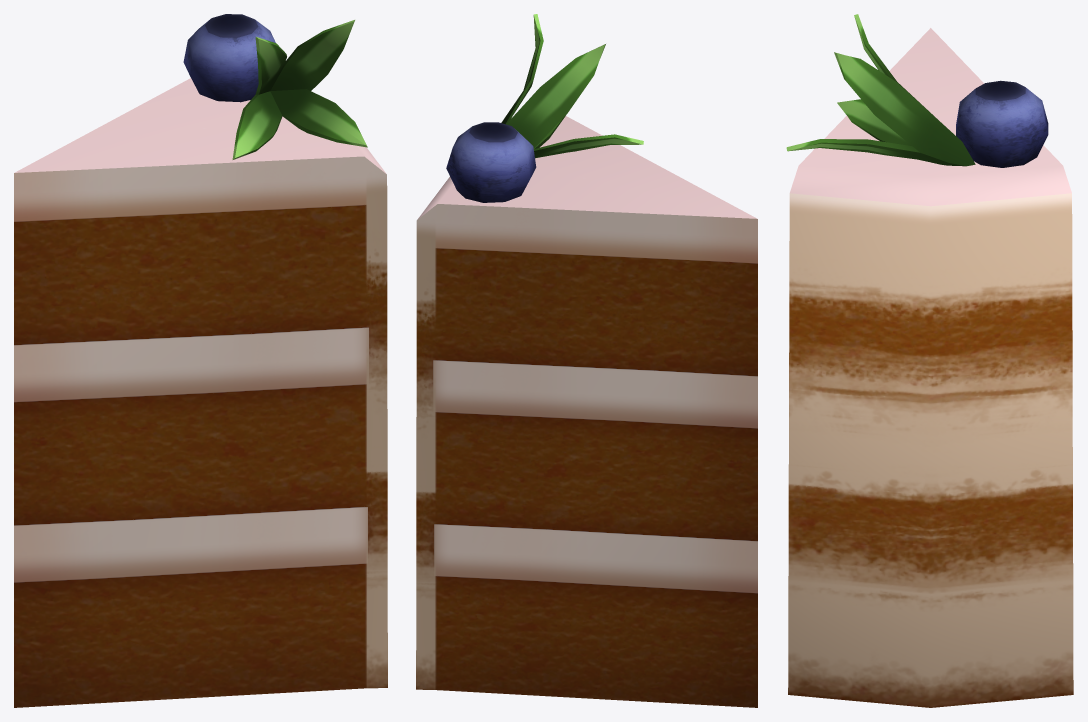
File: Wedding_04_Slice_Top.fbx
3 renders of one model, left to right at view 1: azimuth 30°, elevation 25°; view 2: azimuth 150°, elevation 25°; view 3: azimuth 270°, elevation 25°, orthographic. The views are drawn at different scales.
Parts seen in each view (by area): view 1: Wedding_04_Slice_Top; view 2: Wedding_04_Slice_Top; view 3: Wedding_04_Slice_Top.
Boxes of the visible parts, x1,y1,x2,y2 form: Wedding_04_Slice_Top: (14, 14, 387, 707); Wedding_04_Slice_Top: (416, 14, 757, 707); Wedding_04_Slice_Top: (786, 14, 1073, 707).
Bounding box in the file's own units: 37.92 × 71.98 × 29.36.
